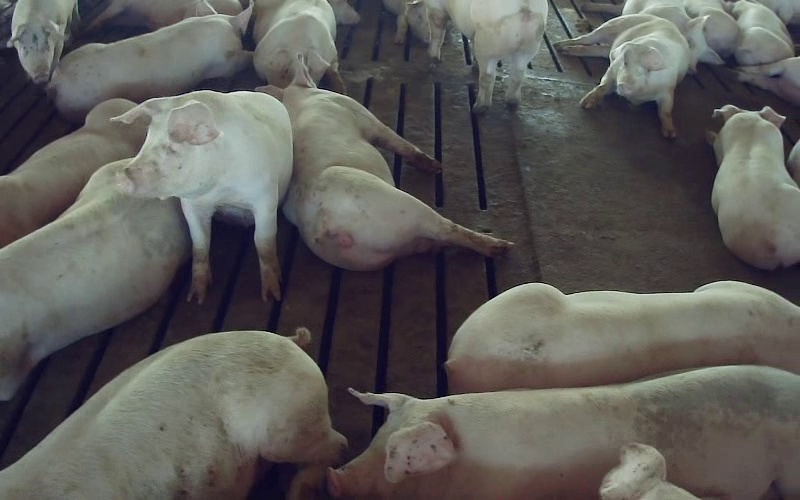pig: (328, 366, 799, 499), (0, 328, 346, 499), (257, 54, 511, 270), (0, 160, 189, 399), (446, 281, 799, 392), (115, 91, 292, 302), (48, 0, 251, 120), (0, 98, 145, 247), (556, 14, 689, 137), (708, 105, 799, 269), (424, 0, 547, 111), (253, 0, 345, 92), (622, 0, 722, 71), (725, 0, 793, 65), (684, 0, 738, 59)
